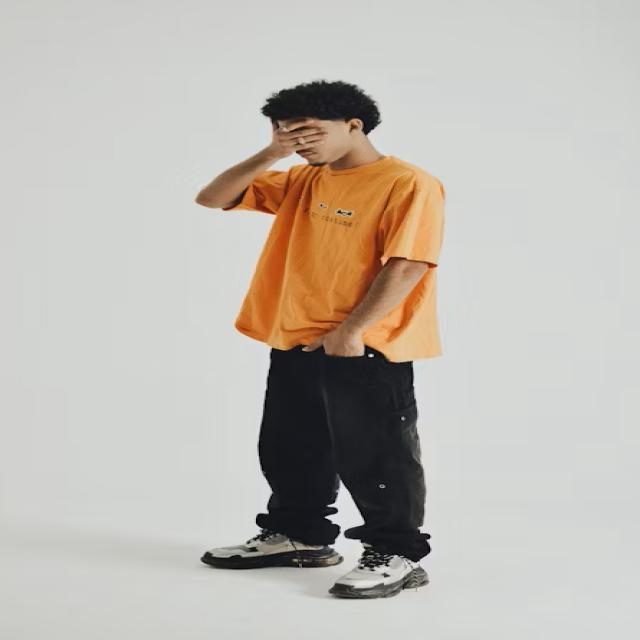Edited images: (163, 48, 470, 606)
